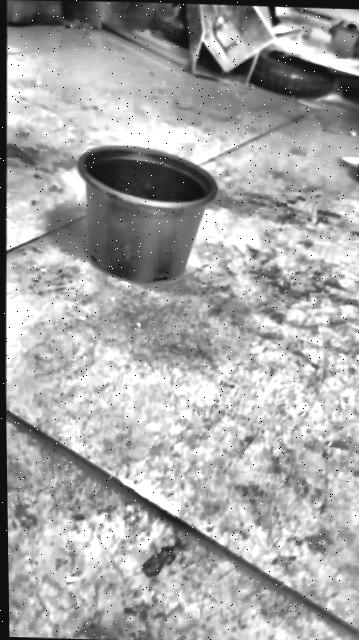pot: (75, 145, 218, 284)
